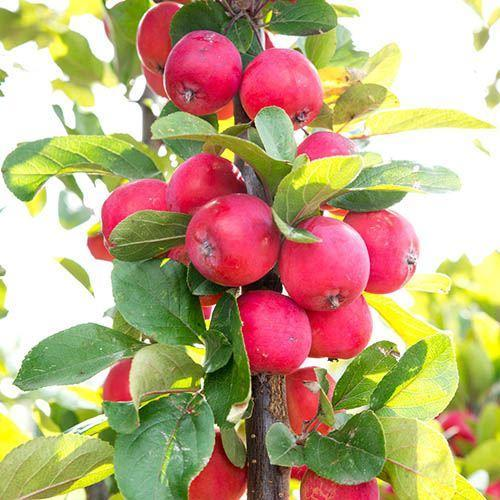apple: (276, 213, 370, 312), (185, 190, 282, 285), (223, 287, 310, 372), (341, 204, 420, 295), (161, 29, 242, 113), (236, 45, 321, 125), (302, 288, 375, 363), (168, 153, 246, 213), (97, 179, 170, 240), (280, 365, 337, 441), (185, 432, 246, 498)
